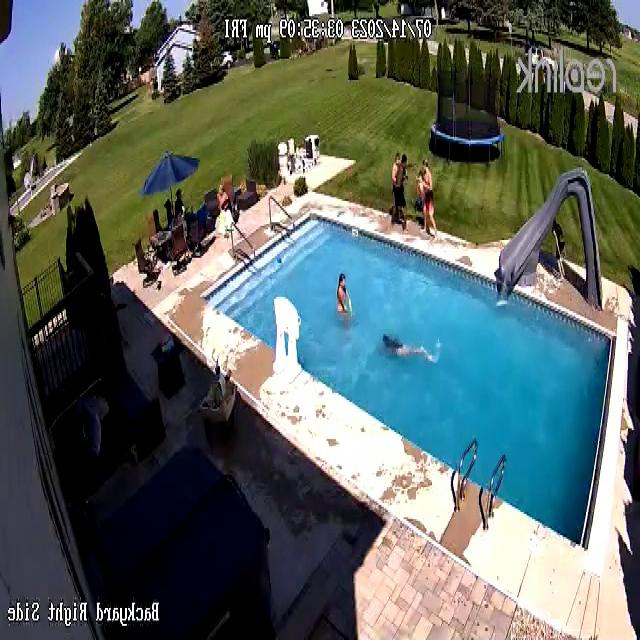adult: (421, 157, 434, 226), (398, 154, 408, 226), (336, 272, 351, 312)
child: (414, 171, 425, 212)
